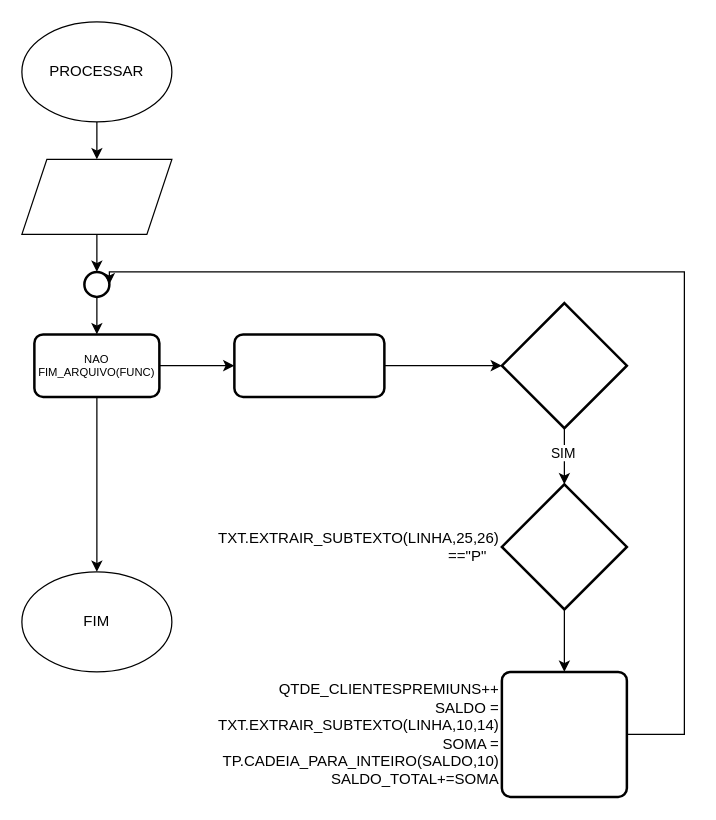
This 716x820 diagram has some shape labels left out. The centre of each missing label's shape, as x and y in pixels:
"LINHA =ARQ.LER_LINHA(FUNC) QTDE = TEX.NUMERO_CARACTERES(LINHA)" belongs at point 308,365.
"LINHA SALDO SOMA" belongs at point 96,196.
"QTDE>0" belongs at point 564,365.
